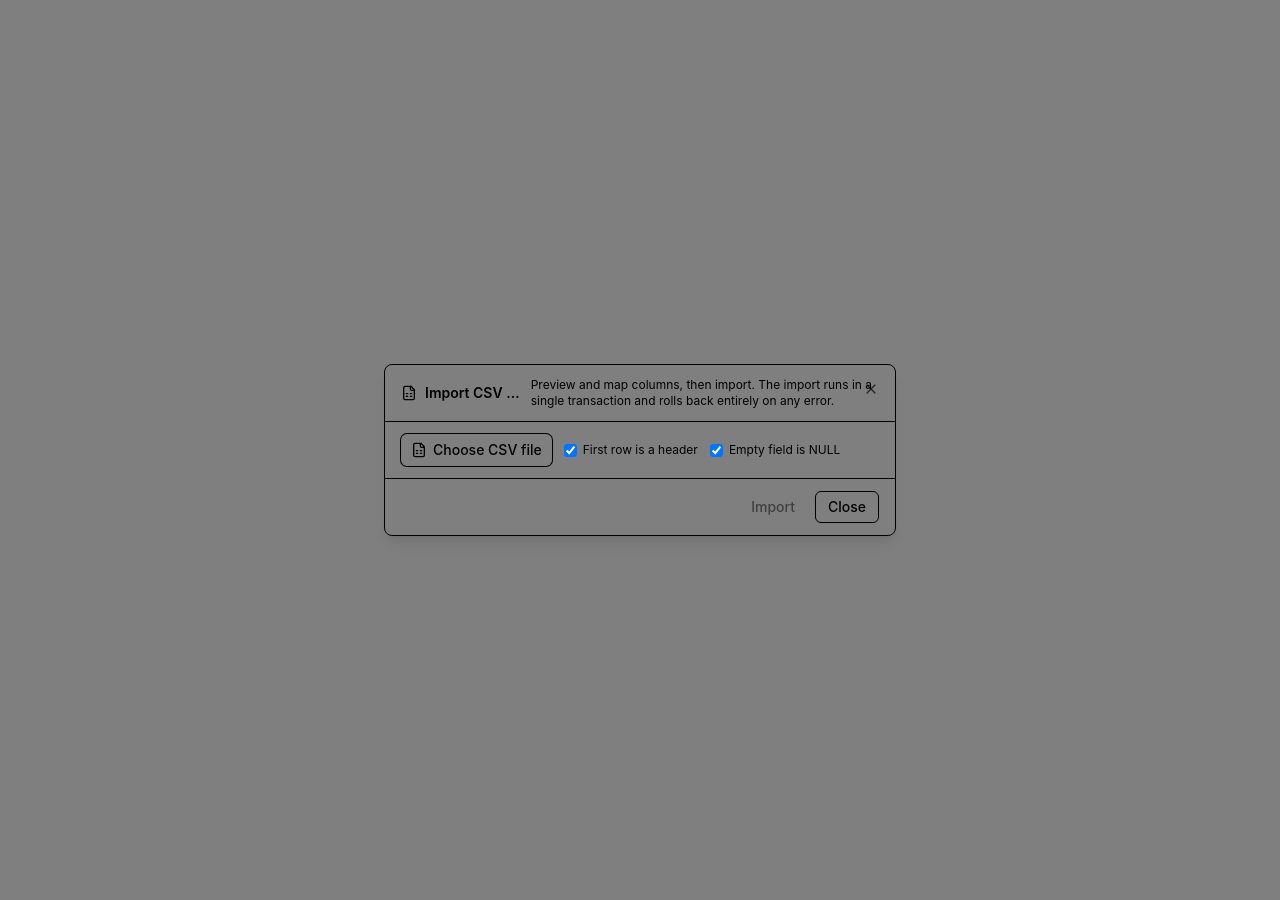
ImportCsvDialog › previews the picked file and auto-maps columns by name
This screenshot has width=1280, height=900.
Click the button with aria-label "choose a csv file". click: (476, 450)
box: [401,434,552,466]
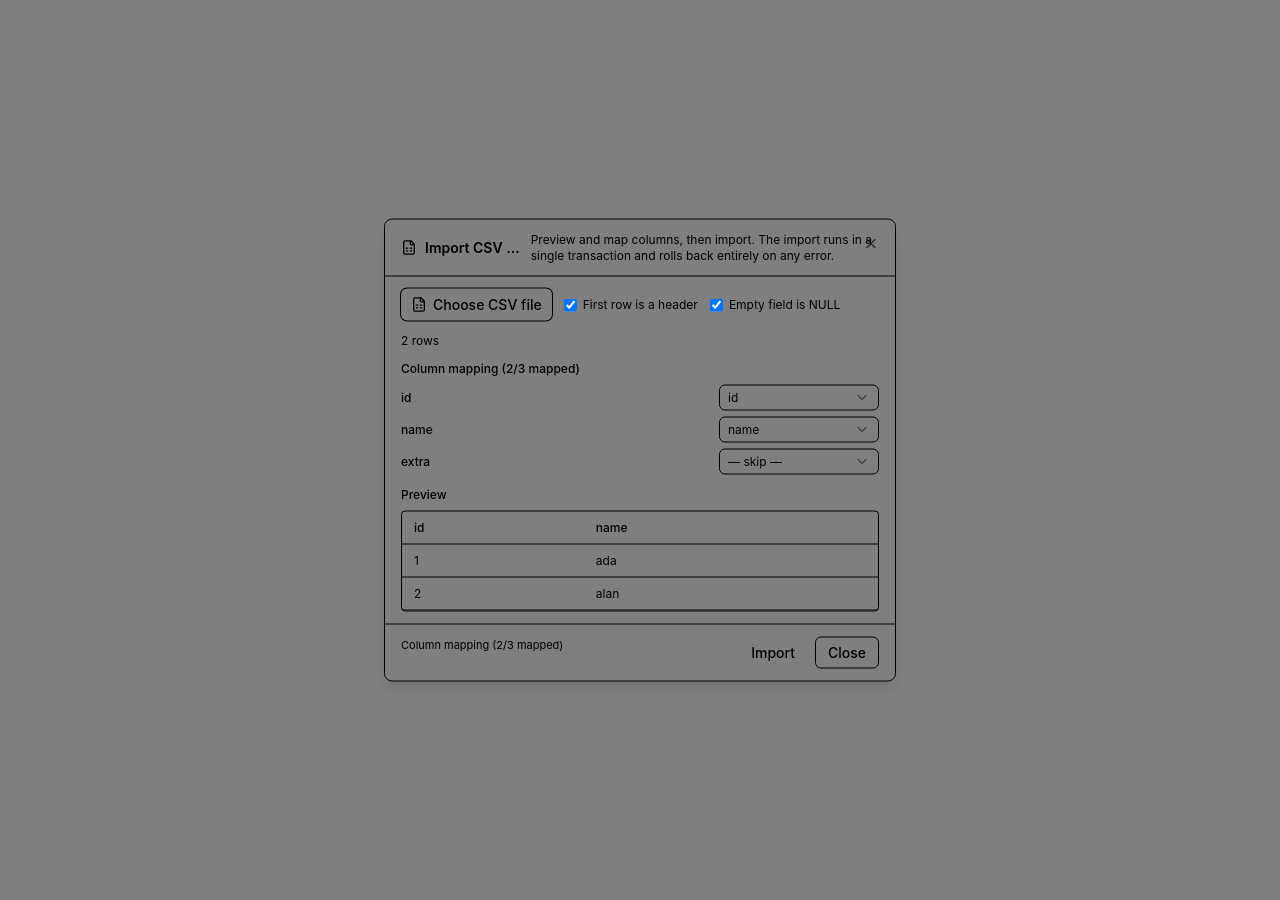
expect the text "ada" is shown: met, box [584,544,878,577]
expect the text "2 rows" is shown: met, box [401,332,439,348]
expect the dropdown named "csv header for column id" is shown: met, box [719,384,879,410]
